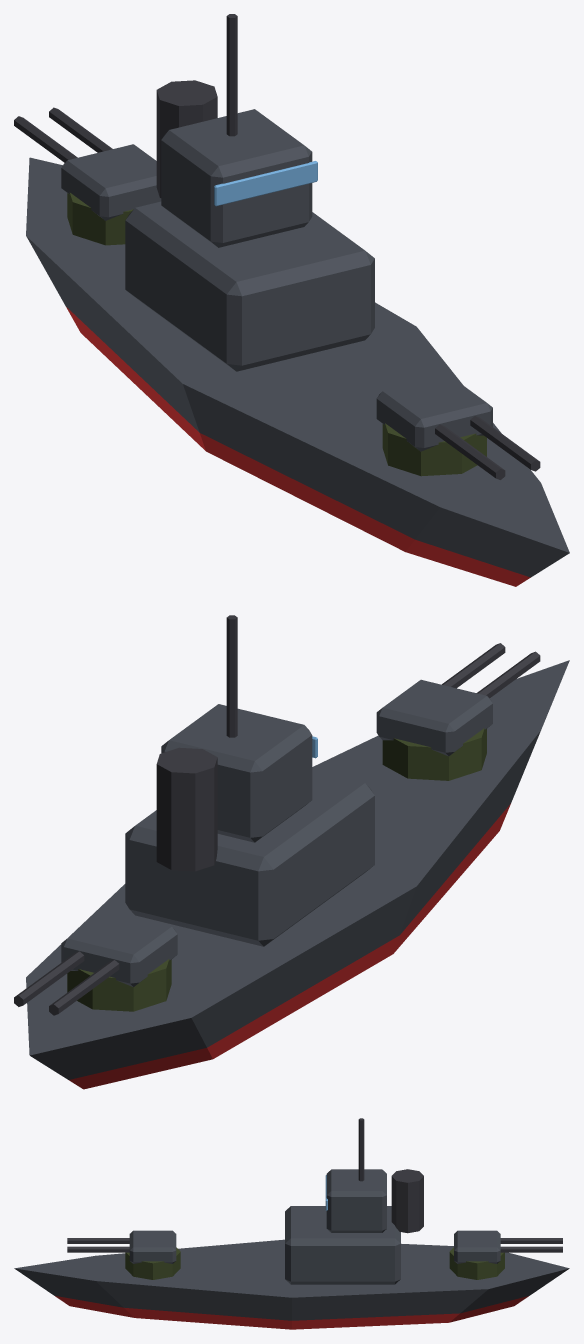
Rendered from Battleship.fbx.
3 views of the same model, one above another, from view 1: azimuth 30°, elevation 25°; view 2: azimuth 150°, elevation 25°; view 3: azimuth 270°, elevation 25° (orthographic). The views are drawn at different scales.
Visible parts, largest first — view 1: Battleship, Battleship_TurretFront, Battleship_TurretBack; view 2: Battleship, Battleship_TurretFront, Battleship_TurretBack; view 3: Battleship, Battleship_TurretFront, Battleship_TurretBack.
Part boxes in pixels (x1,y1,x2,y2): Battleship: (26, 14, 569, 586); Battleship_TurretFront: (376, 375, 540, 479); Battleship_TurretBack: (14, 107, 161, 245); Battleship: (26, 615, 569, 1089); Battleship_TurretFront: (376, 643, 540, 780); Battleship_TurretBack: (14, 910, 177, 1015); Battleship: (14, 1118, 569, 1329); Battleship_TurretFront: (67, 1230, 180, 1279); Battleship_TurretBack: (449, 1230, 562, 1279).
Size of the model in its own units: 6 by 9.3 by 24.
Materials: 1 (1 with a texture image).
